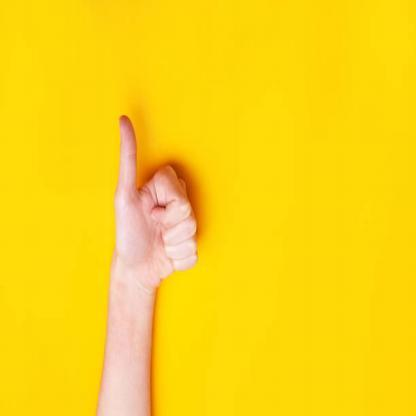thumb_up: (109, 110, 201, 289)
